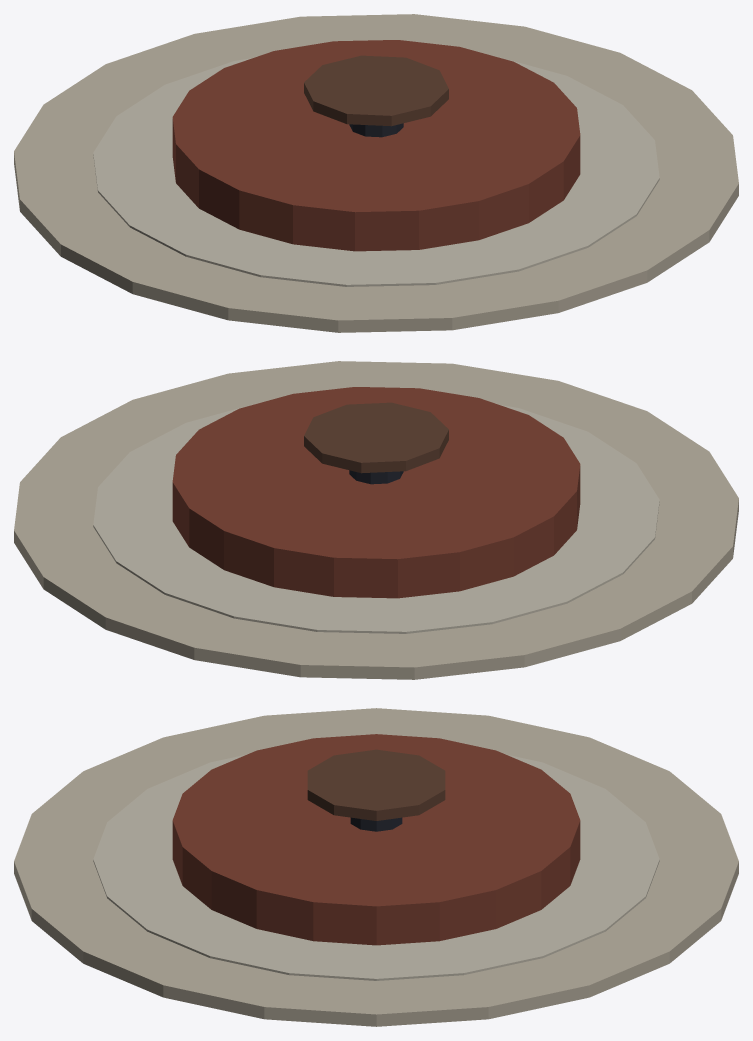
Rendered from fountain-low.glb.
3 renders of one model, top to bottom at view 1: azimuth 30°, elevation 25°; view 2: azimuth 150°, elevation 25°; view 3: azimuth 270°, elevation 25°, orthographic.
Bounding box in the file's own units: 32 × 4.55 × 32.
